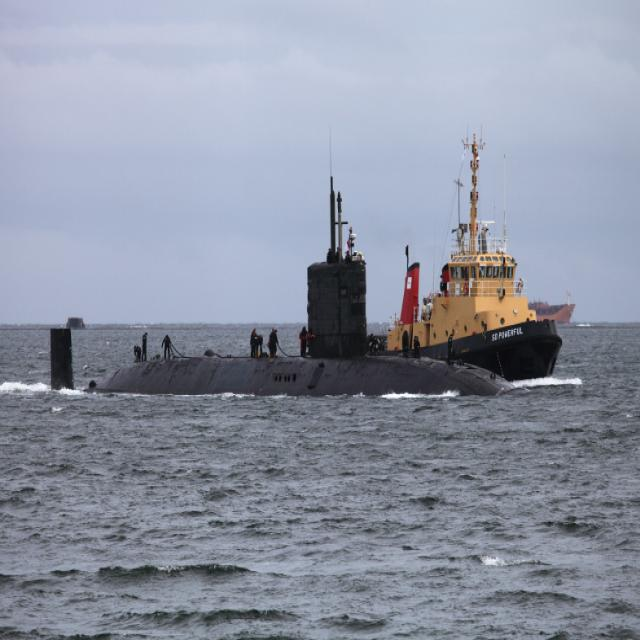submarine: (52, 197, 511, 396)
